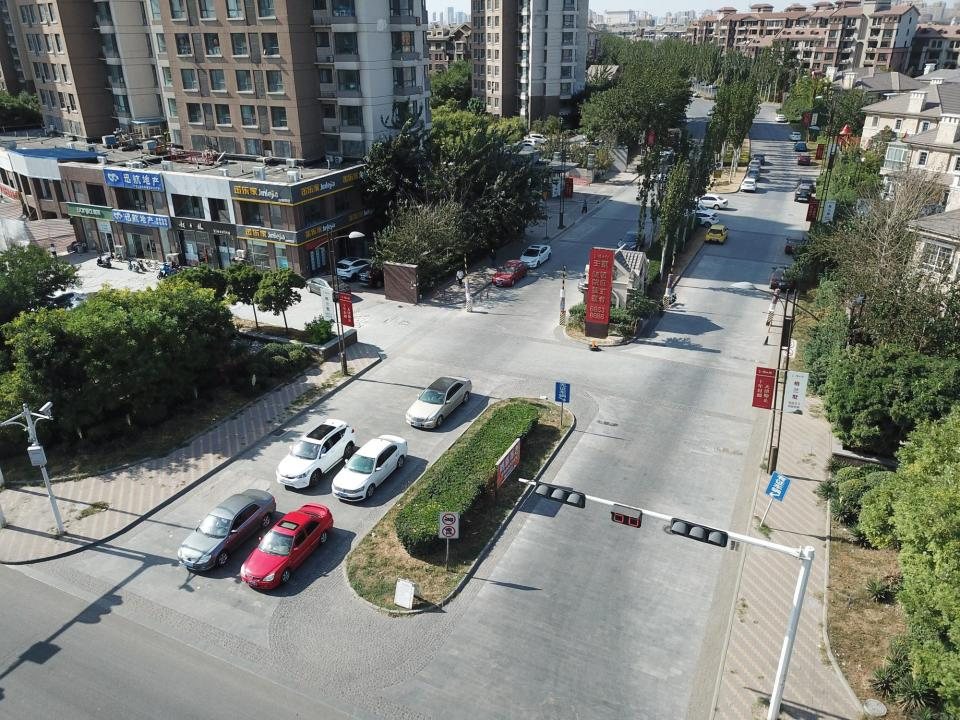car: (240, 502, 334, 590), (176, 488, 276, 570), (332, 435, 408, 501), (304, 418, 356, 490), (405, 374, 473, 428), (356, 258, 407, 288), (578, 254, 609, 292), (335, 256, 379, 282), (304, 276, 351, 300), (491, 259, 528, 286), (769, 264, 798, 291), (520, 244, 552, 268), (680, 209, 719, 227), (690, 193, 728, 210), (617, 230, 646, 252), (677, 202, 717, 217), (705, 224, 729, 244), (785, 235, 807, 254), (794, 185, 812, 203), (796, 177, 814, 191), (740, 178, 758, 192), (745, 169, 761, 182), (798, 153, 812, 166), (792, 141, 808, 152), (664, 294, 677, 307), (752, 153, 766, 165), (788, 131, 802, 141), (748, 159, 761, 169), (775, 115, 786, 122)
